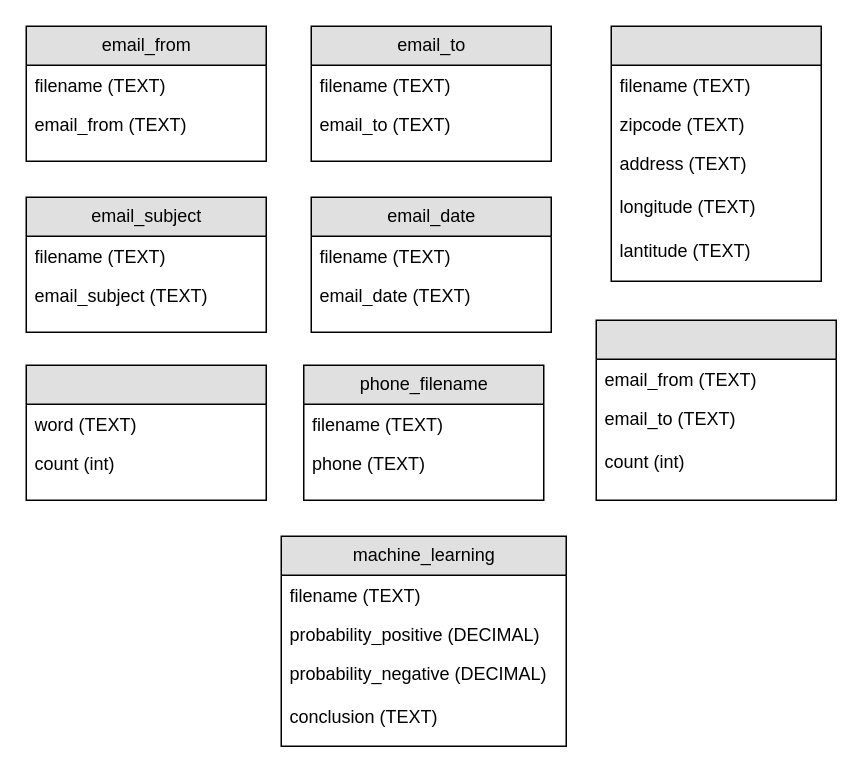
The diagram is 863 pixels wide and 777 high, and some of its shapes have lost their labels. Each missing label, with the box of its shape:
from_to_counts: (595, 319, 836, 500)
word_count: (25, 364, 266, 500)
zipcode_filename: (610, 25, 821, 281)
